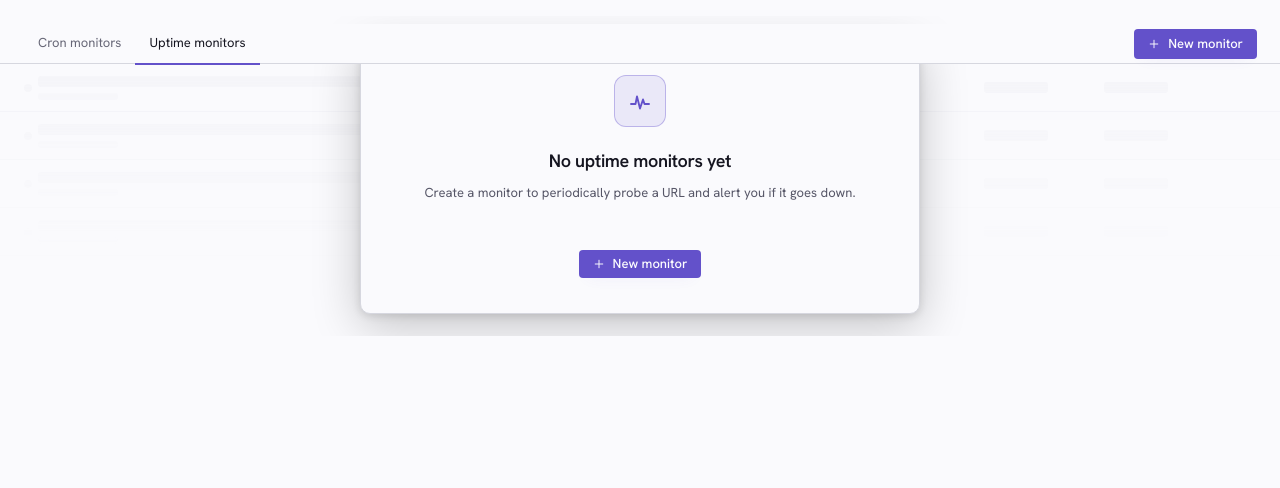
it: UptimeMonitorsView › create form › toggles the create form when clicking "New monitor"
Click the button with class "btn--primary" in the row of "Cron monitors".
click(1196, 44)  # box [1135,30,1256,58]
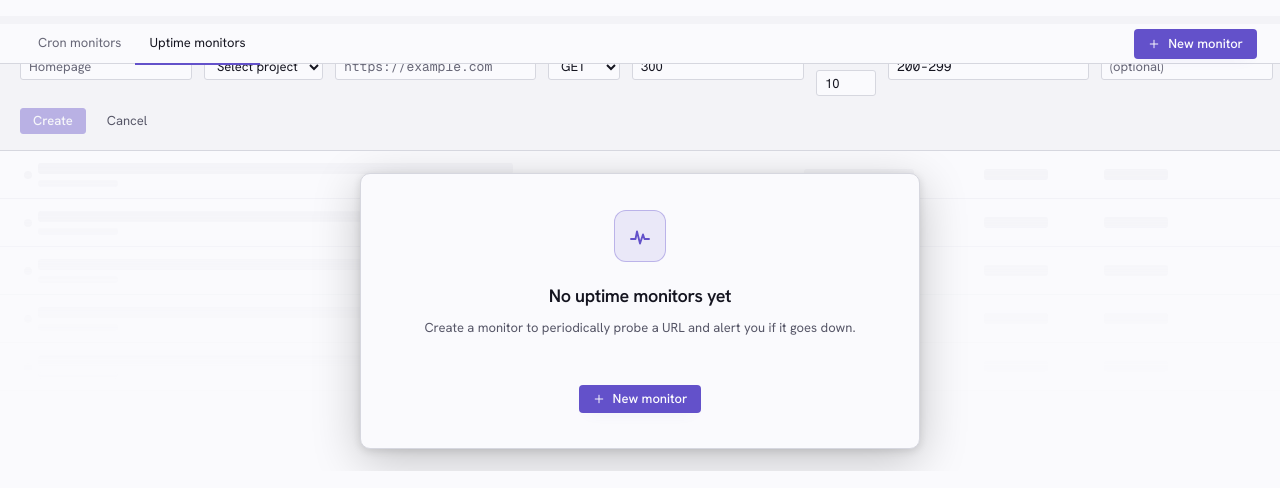
Check: the element with class "mon-createbar" is shown, box [0,16,1279,151]
